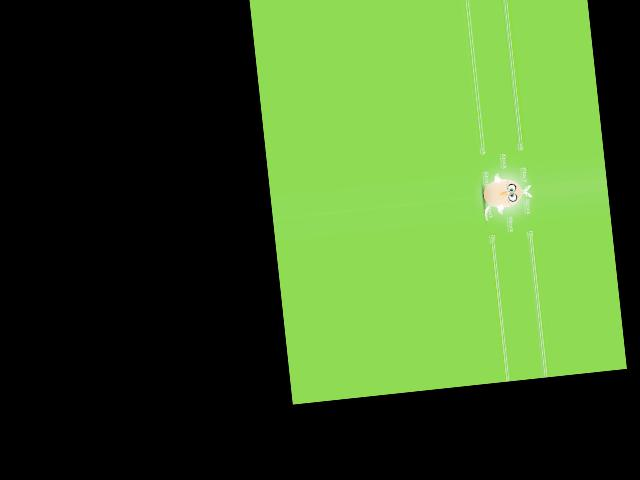egg: (481, 178, 523, 210)
